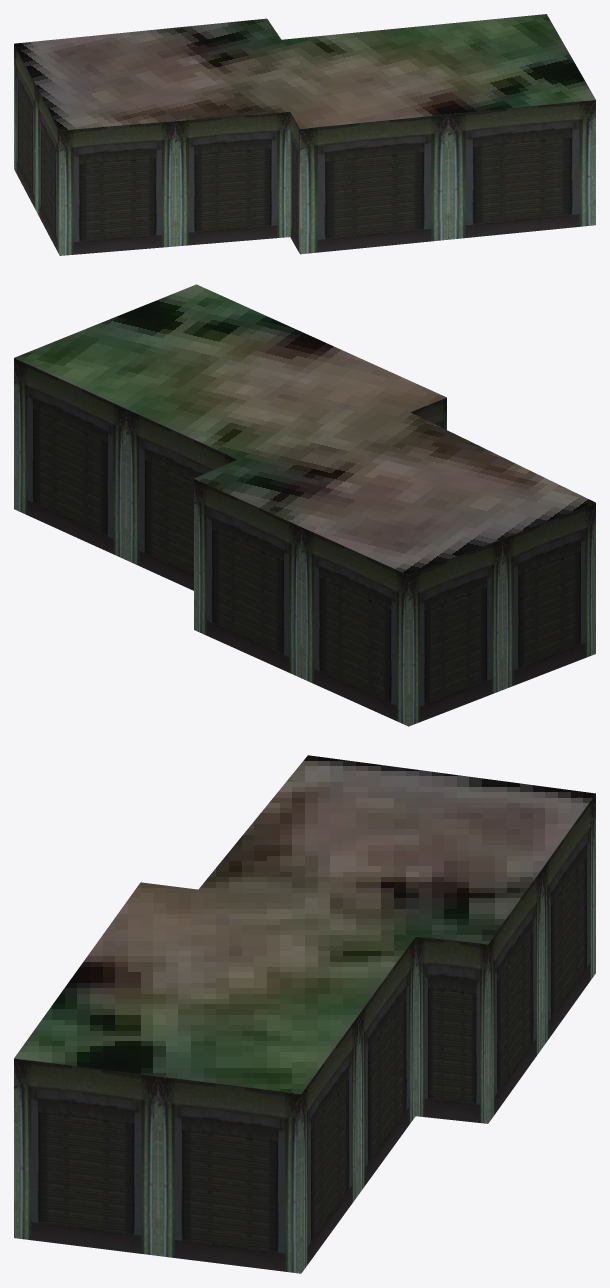
3 renders of one model, top to bottom at view 1: azimuth 30°, elevation 25°; view 2: azimuth 150°, elevation 25°; view 3: azimuth 270°, elevation 25°, orthographic. The views are drawn at different scales.
Visible parts, largest first — view 1: SketchUp (×5); view 2: SketchUp (×5); view 3: SketchUp (×5).
Boxes of the visible parts, x1=… form: SketchUp (×5): x1=14, y1=14, x2=595, y2=255; SketchUp (×5): x1=14, y1=284, x2=595, y2=726; SketchUp (×5): x1=14, y1=755, x2=595, y2=1273.
Bounding box in the file's own units: 16.1 × 11.68 × 3.98.
Materials: 2 (2 with a texture image).
